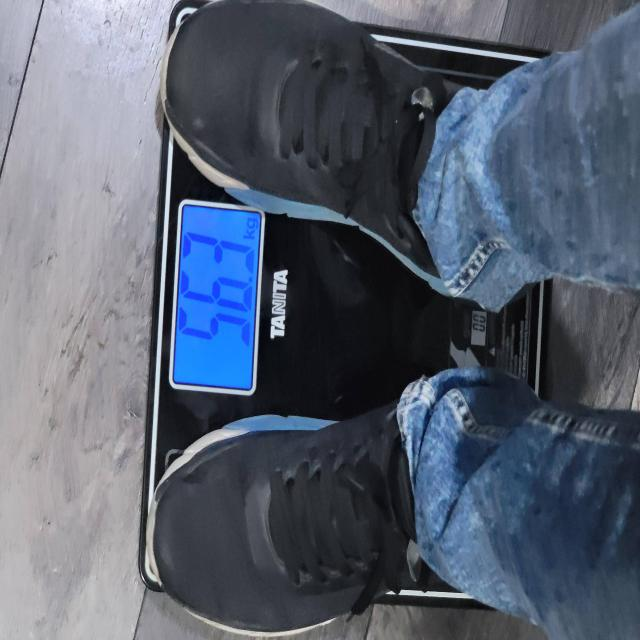ws: (168, 200, 264, 397)
